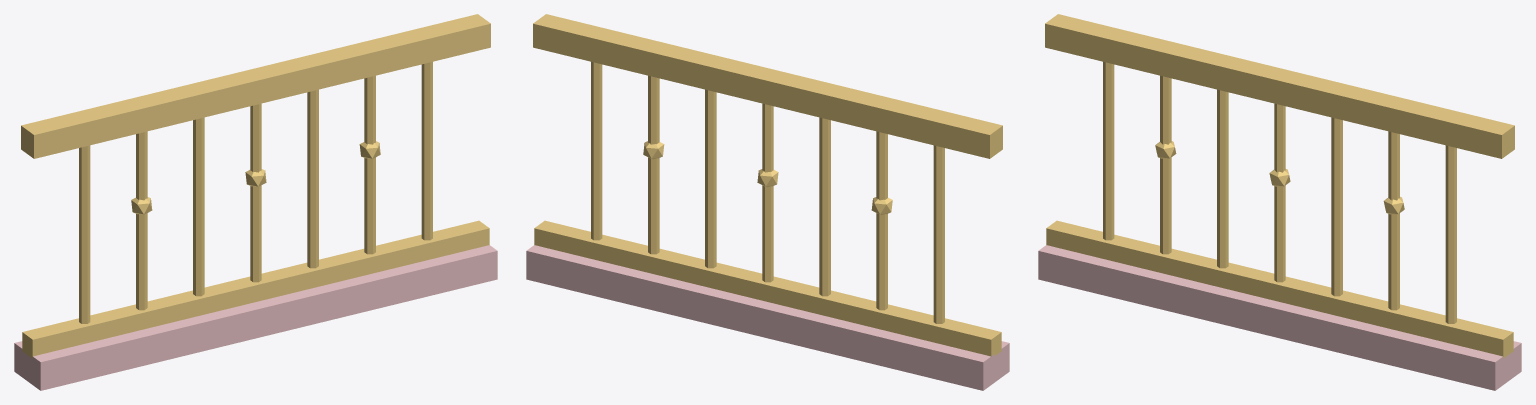
Rendered from HOB_Fence_2m.fbx.
The picture shows the model from 3 angles, left to right: view 1: azimuth 30°, elevation 25°; view 2: azimuth 150°, elevation 25°; view 3: azimuth 330°, elevation 25°; orthographic projection.
Visible parts, largest first — view 1: HOB_Fence_2m; view 2: HOB_Fence_2m; view 3: HOB_Fence_2m.
Part boxes in pixels (box(x1,y1,x2,y2)): HOB_Fence_2m: box(14, 14, 497, 390); HOB_Fence_2m: box(526, 14, 1009, 390); HOB_Fence_2m: box(1038, 14, 1521, 390).
Bounding box in the file's own units: 200 × 105 × 20.
